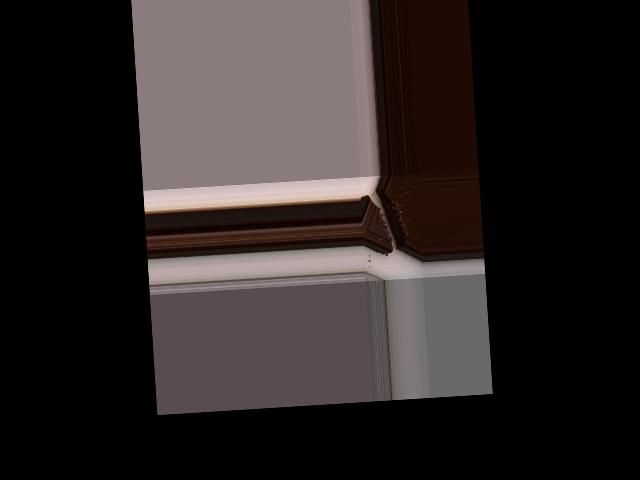chocolate: (358, 174, 421, 266)
